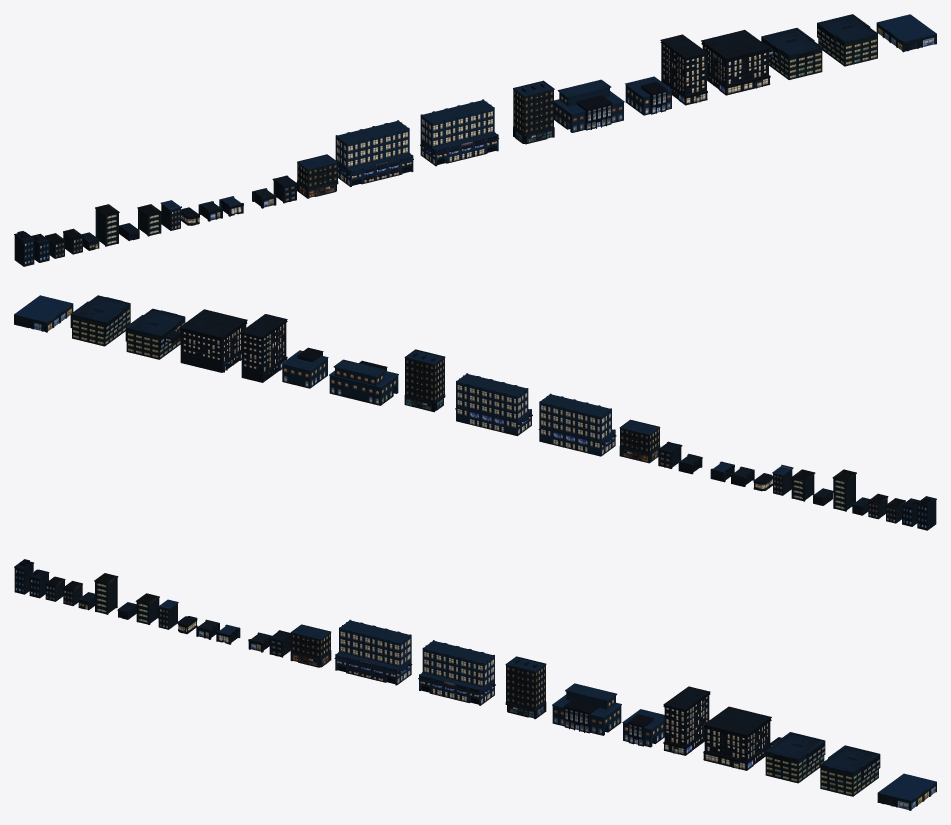
File: buildings1.fbx
3 renders of one model, top to bottom at view 1: azimuth 30°, elevation 25°; view 2: azimuth 150°, elevation 25°; view 3: azimuth 330°, elevation 25°, orthographic.
Parts seen in each view (by area): view 1: Big_building_7, Big_building_8, Big_building_1, Big_building_4, Big_building_2, Big_building_10, Big_building_6, Big_building_11, Big_building_5, Big_building_9, Big_building_3, small_building_6 (+4 smaller); view 2: Big_building_8, Big_building_7, Big_building_1, Big_building_2, Big_building_4, Big_building_10, Big_building_11, Big_building_6, Big_building_5, Big_building_9, Big_building_3, small_building_6 (+4 smaller); view 3: Big_building_8, Big_building_7, Big_building_1, Big_building_4, Big_building_2, Big_building_11, Big_building_10, Big_building_6, Big_building_5, Big_building_9, Big_building_3, small_building_6 (+2 smaller).
Part boxes in pixels (x1,y1,x2,y2): Big_building_7: (420, 99, 499, 166); Big_building_8: (335, 120, 413, 186); Big_building_1: (701, 30, 770, 95); Big_building_4: (554, 79, 624, 132); Big_building_2: (660, 34, 708, 105); Big_building_10: (817, 14, 877, 66); Big_building_6: (513, 80, 554, 144); Big_building_11: (761, 28, 822, 79); Big_building_5: (297, 154, 338, 198); Big_building_9: (876, 14, 936, 52); Big_building_3: (625, 76, 672, 115); small_building_6: (95, 204, 119, 246); Big_building_8: (538, 393, 616, 456); Big_building_7: (455, 373, 532, 436); Big_building_1: (179, 309, 247, 372); Big_building_2: (240, 314, 287, 382); Big_building_4: (329, 359, 398, 405); Big_building_10: (70, 295, 130, 346); Big_building_11: (125, 308, 185, 359); Big_building_6: (404, 349, 445, 412); Big_building_5: (619, 419, 660, 463); Big_building_9: (14, 295, 73, 332); Big_building_3: (281, 347, 328, 388); small_building_6: (832, 469, 856, 511); Big_building_8: (334, 619, 412, 685); Big_building_7: (418, 640, 495, 705); Big_building_1: (703, 706, 771, 770); Big_building_4: (552, 683, 621, 735); Big_building_2: (663, 686, 710, 755); Big_building_11: (765, 732, 825, 783); Big_building_10: (820, 745, 880, 796); Big_building_6: (505, 656, 546, 719); Big_building_5: (290, 624, 331, 667); Big_building_9: (877, 773, 936, 810); Big_building_3: (622, 709, 664, 747); small_building_6: (94, 573, 118, 614).
Bounding box in the file's own units: 36903 × 1970 × 1998.
2 materials, 2 textured.
